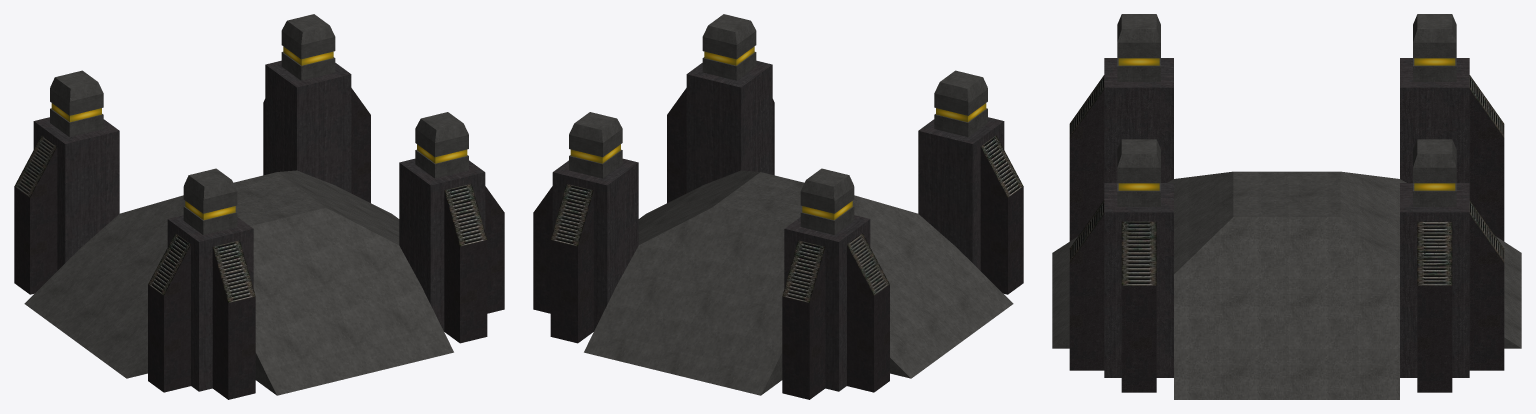
Rendered from miraflag_base2.fbx.
3 views of the same model, side by side, from view 1: azimuth 30°, elevation 25°; view 2: azimuth 150°, elevation 25°; view 3: azimuth 270°, elevation 25° (orthographic). The views are drawn at different scales.
Parts seen in each view (by area): view 1: Object; view 2: Object; view 3: Object.
Boxes of the visible parts, x1,y1,x2,y2 form: Object: (14,14,504,399); Object: (533,14,1023,399); Object: (1052,14,1521,399).
Size of the model in its own units: 5400 by 2750 by 5400.
